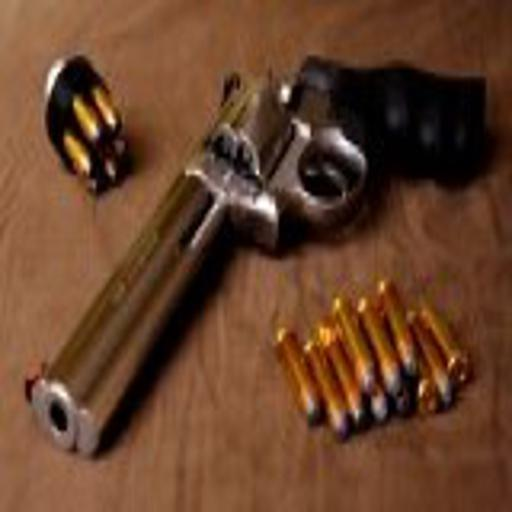Handgun: (21, 58, 488, 468)
